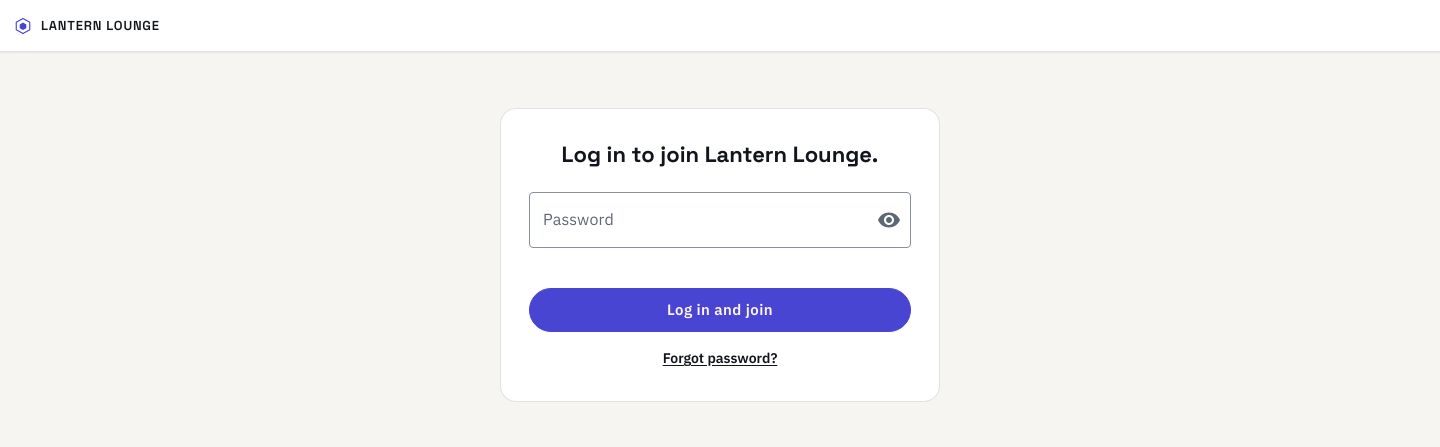
Test: InvitePage › when the submit fails › says the password is incorrect and keeps the invite usable
The image size is (1440, 447).
expect the button "Log in and join" is shown: met, box [529,288,911,332]
Type "wrongpass" into the password field labelled "Password".
click(695, 220); type("wrongpass")  # box [529,192,861,248]
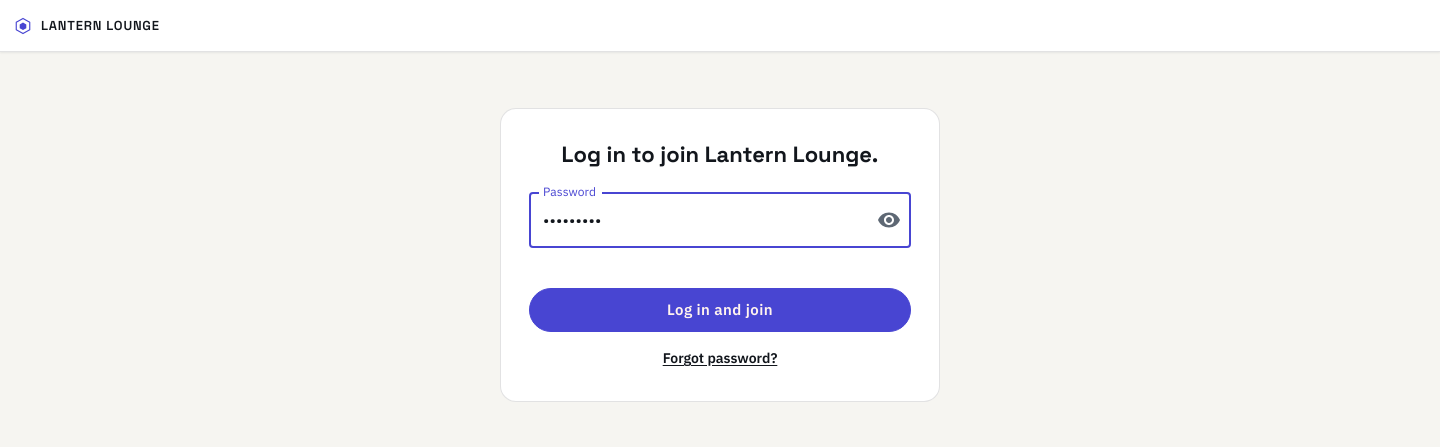
Click the button "Log in and join".
click(720, 310)  # box [529,288,911,332]
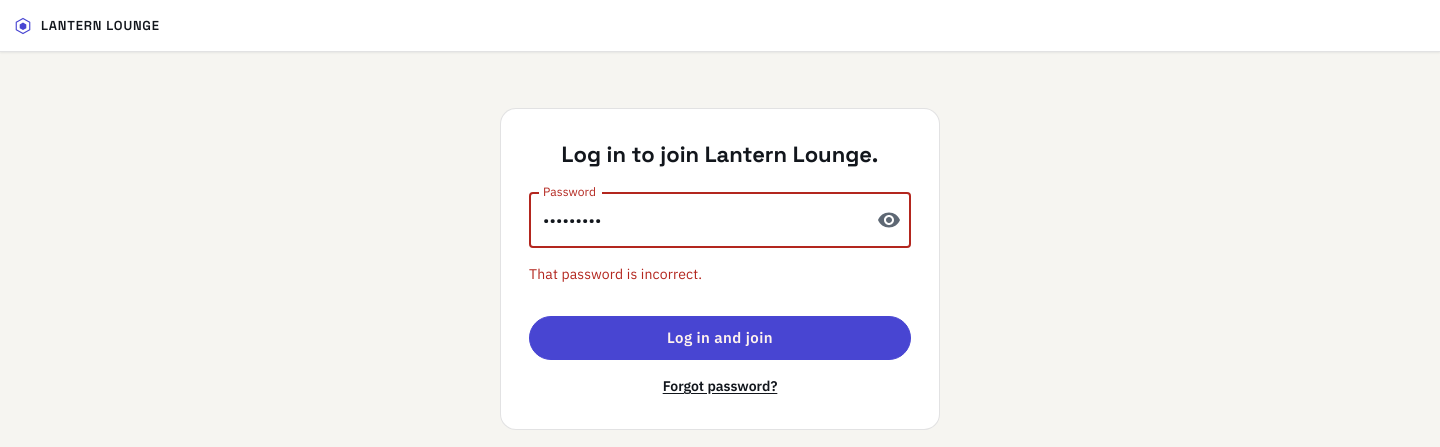
expect the button "Log in and join" is enabled: met, box [529,316,911,360]
expect the message reads "That password is incorrect.": met, box [529,265,702,283]
